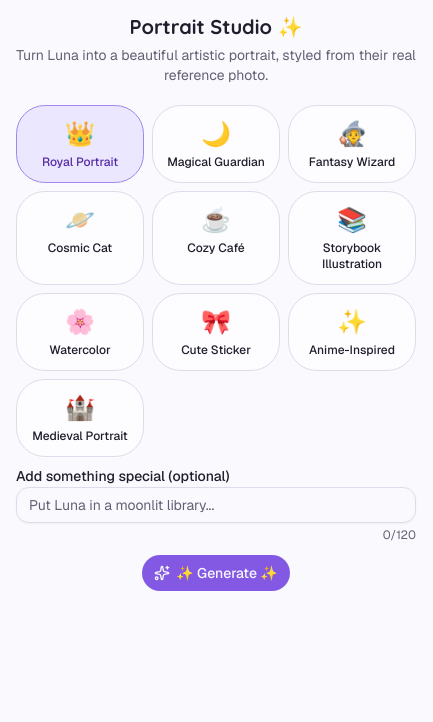
Test case: PortraitStudio › shows an honest unavailable message when no provider is configured, never a fake portrait
Click the button "✨ Generate ✨" at [216, 573], box [142,555,290,591]
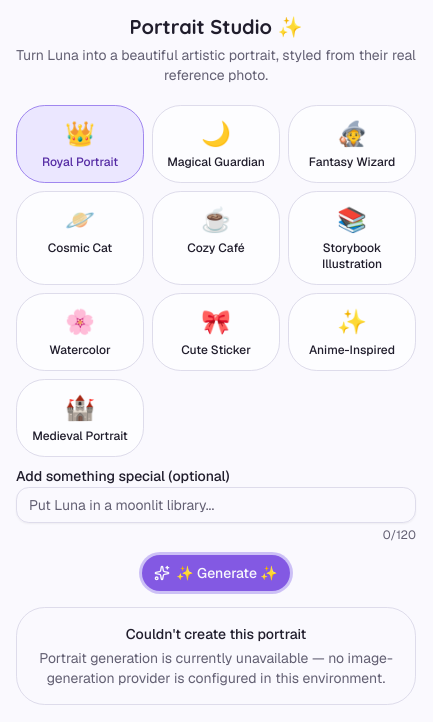
Check: the message shows "currently unavailable", box [39,649,393,687]
